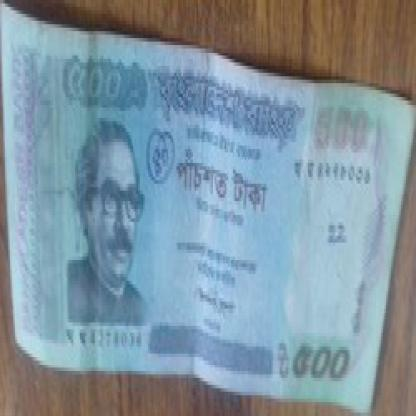500 taka: (170, 142, 274, 229), (50, 52, 151, 114)
currency: (3, 11, 416, 413)
